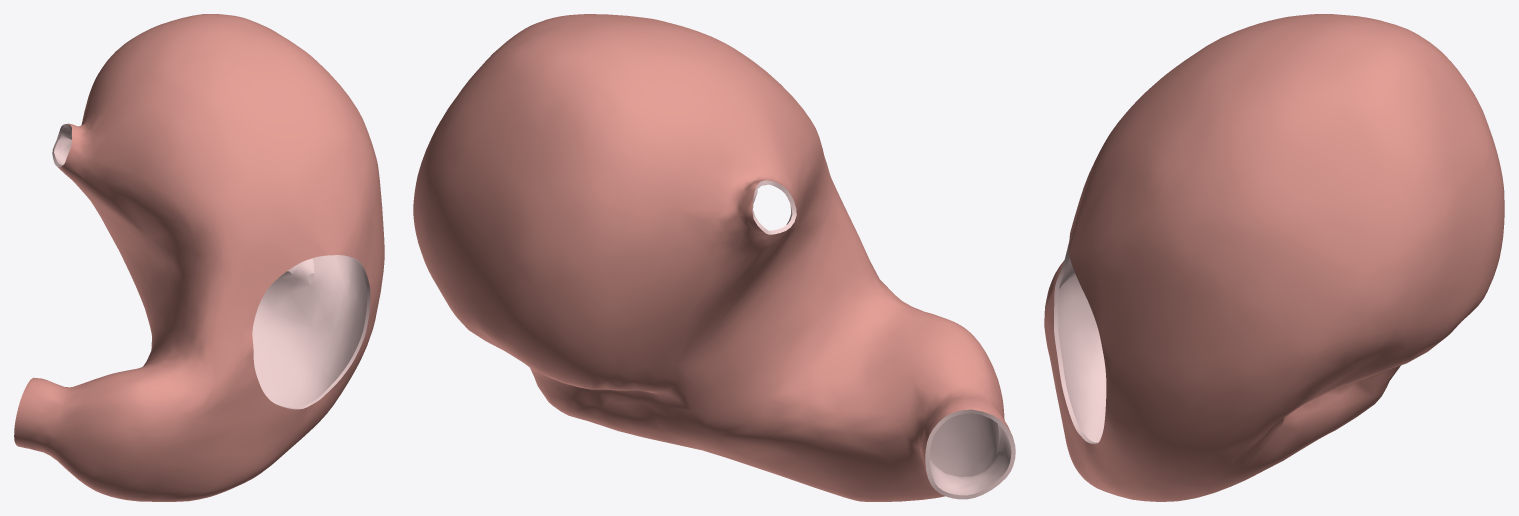
Rendered from stomaco-test.glb.
3 renders of one model, left to right at view 1: azimuth 30°, elevation 25°; view 2: azimuth 150°, elevation 25°; view 3: azimuth 270°, elevation 25°, orthographic. The views are drawn at different scales.
Visible parts, largest first — view 1: Stomach, Mucosa of stomach; view 2: Stomach, Mucosa of stomach; view 3: Stomach, Mucosa of stomach.
Part boxes in pixels (bbox=[...]): Stomach: bbox=[14, 14, 384, 501]; Mucosa of stomach: bbox=[52, 124, 370, 409]; Stomach: bbox=[413, 14, 1012, 501]; Mucosa of stomach: bbox=[752, 180, 1015, 499]; Stomach: bbox=[1044, 14, 1504, 501]; Mucosa of stomach: bbox=[1054, 241, 1106, 443].
Size of the model in its own units: 0.1342 by 0.1255 by 0.1053.
